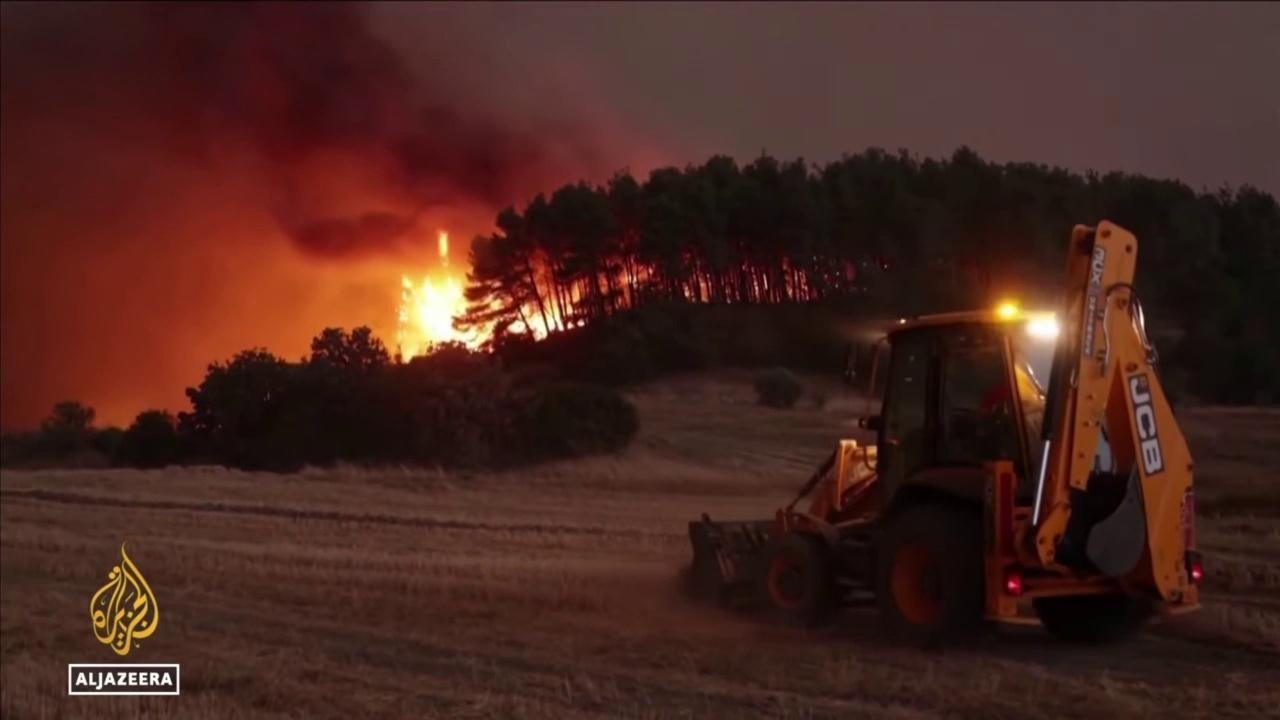fire: (391, 226, 864, 367)
smoke: (0, 0, 711, 443)
